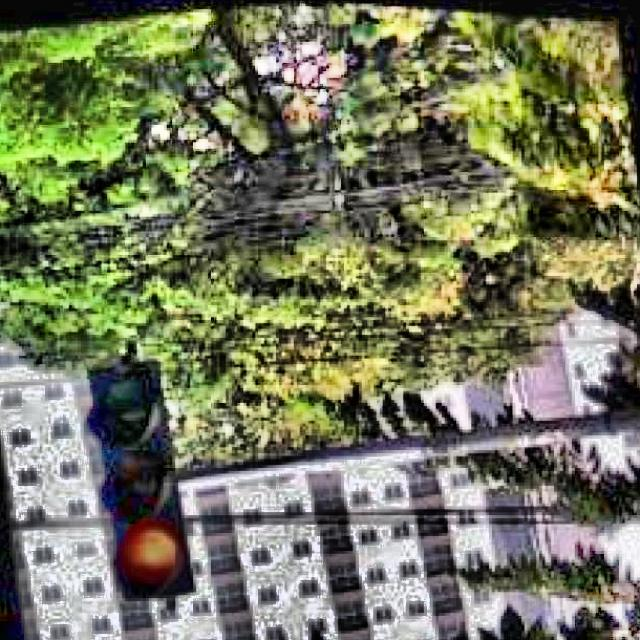red: (82, 364, 195, 598)
